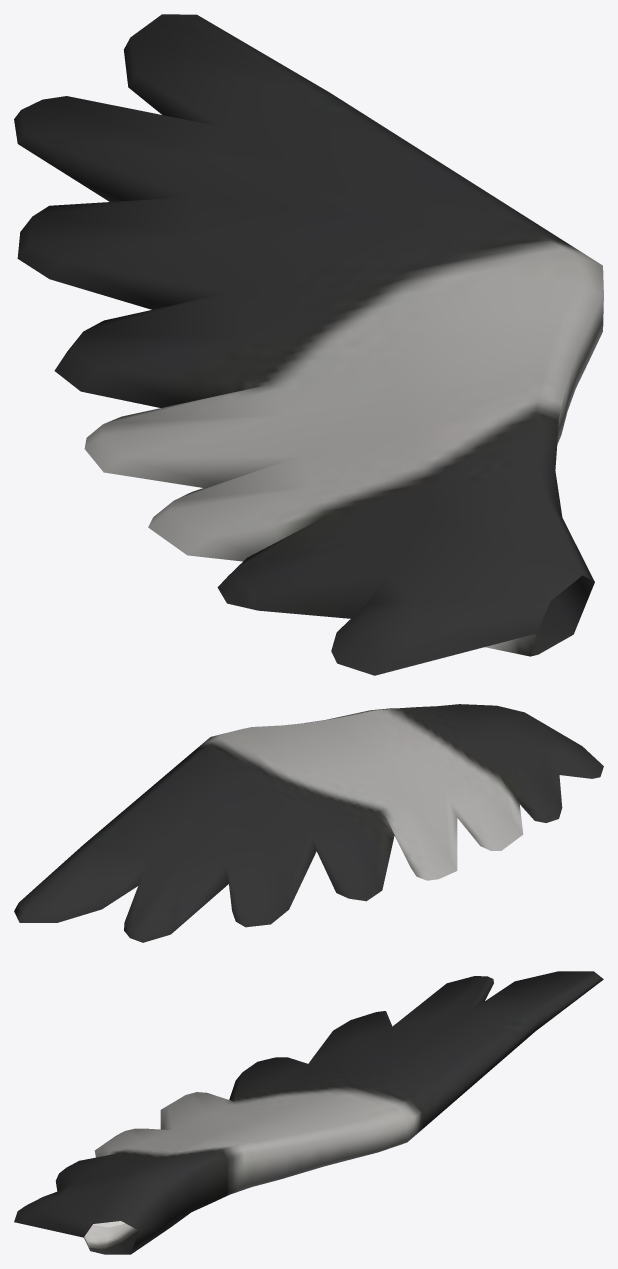
File: pidove_ala_izq_abierta.obj
3 renders of one model, top to bottom at view 1: azimuth 30°, elevation 25°; view 2: azimuth 150°, elevation 25°; view 3: azimuth 330°, elevation 25°, orthographic. The views are drawn at different scales.
Parts seen in each view (by area): view 1: ala_izq_abierta; view 2: ala_izq_abierta; view 3: ala_izq_abierta.
Part boxes in pixels (x1,y1,x2,y2): ala_izq_abierta: (14,14,603,675); ala_izq_abierta: (14,704,603,942); ala_izq_abierta: (14,971,603,1254).
Size of the model in its own units: 6.26 by 1.78 by 14.17.
1 material, 1 textured.
